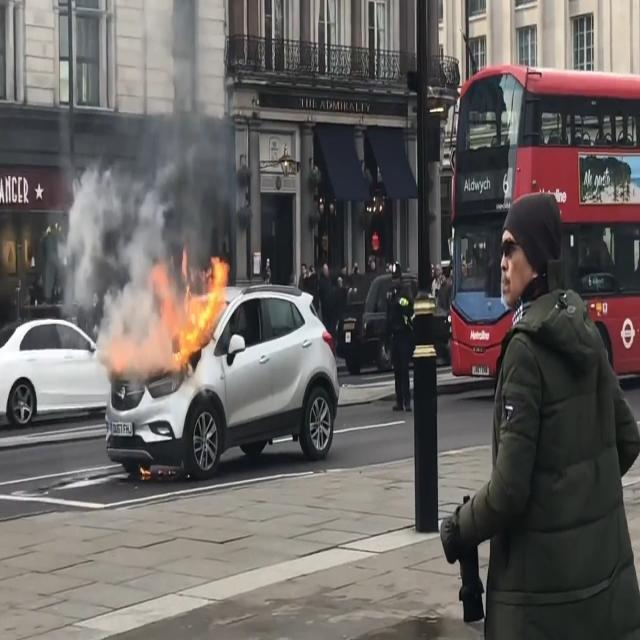fire: (108, 245, 234, 387)
